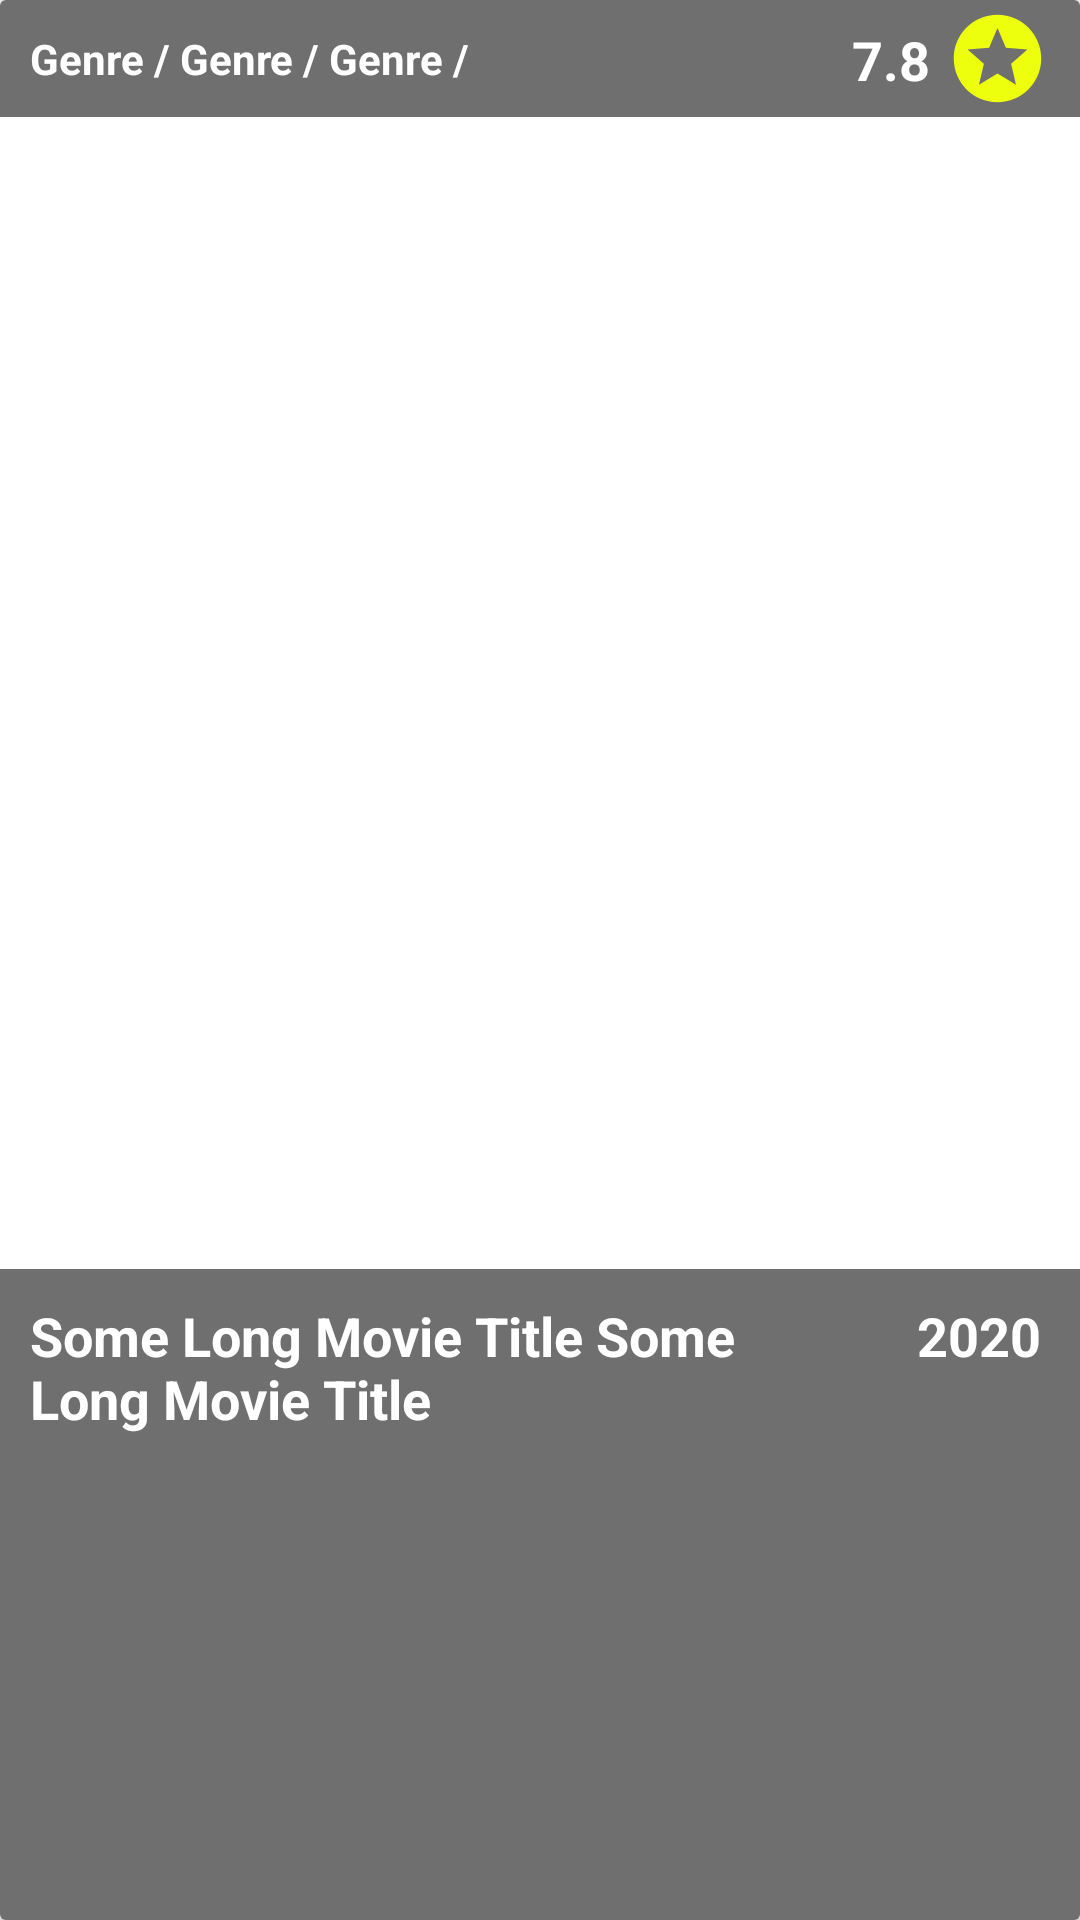

Icons on this 1080x1920 Android screen, each with its box as [x1=x1, y1=y1, x2=x2, y2=y2]:
stars: [x1=953, y1=14, x2=1042, y2=103]
